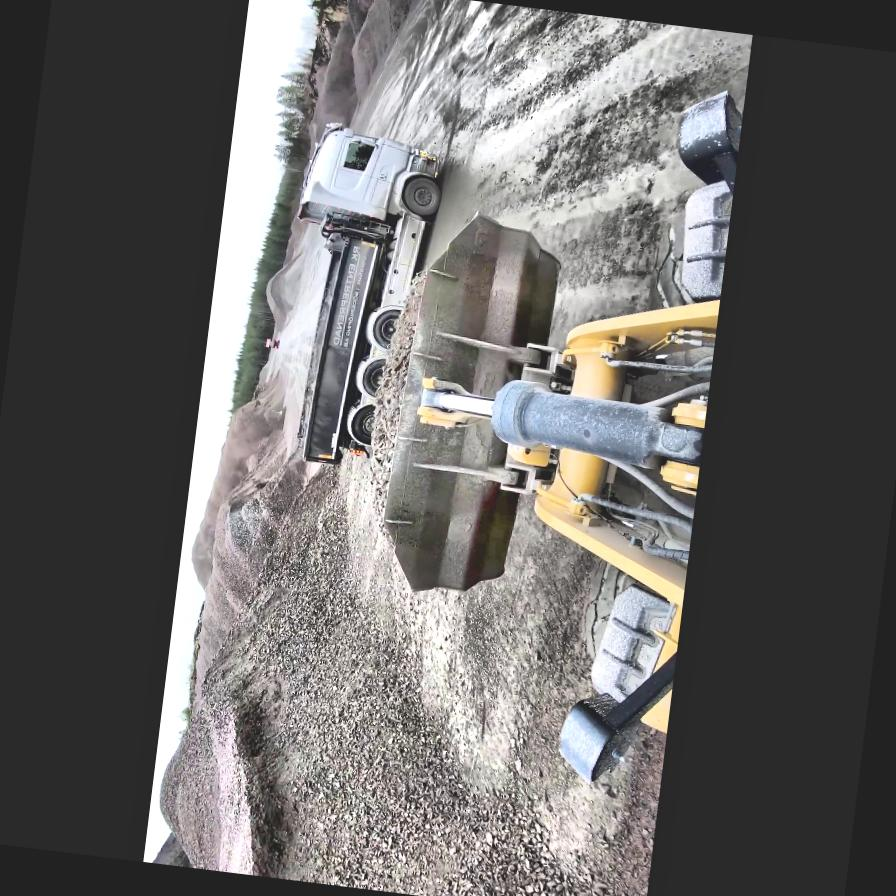anchor: (416, 376, 497, 434)
pile of gravel: (149, 496, 683, 896), (155, 404, 329, 826), (192, 384, 298, 575), (308, 10, 372, 146), (347, 0, 404, 92), (261, 240, 306, 330)
